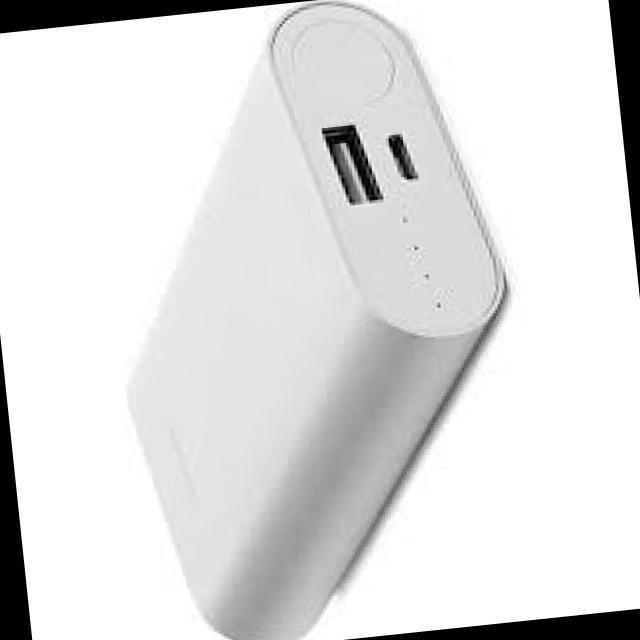power_bank: (84, 0, 545, 640)
